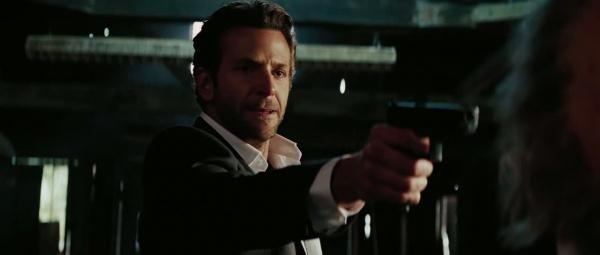Gun: (386, 99, 478, 162)
